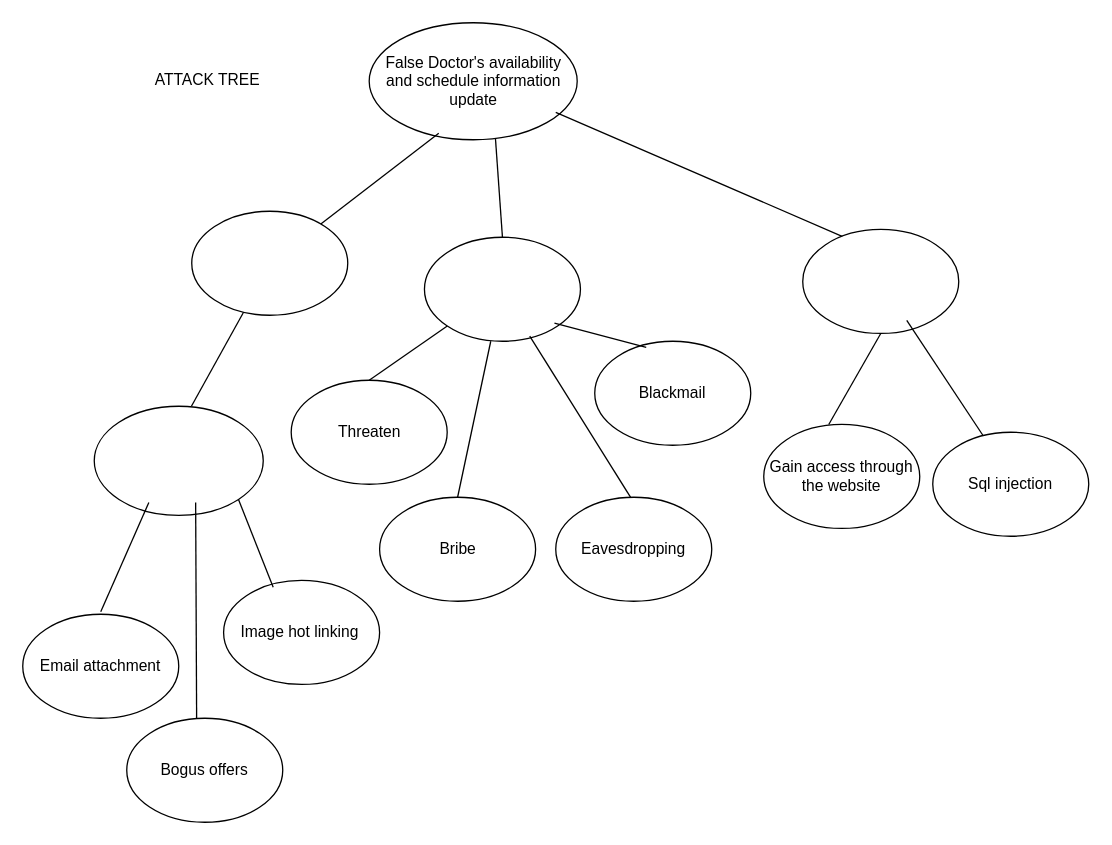
Some shapes in this 1112 by 845 pixel diagram are drawn without their labels. Each missing label, with the centre of its shape:
"Gain access from the person in-charge" goes at (x=501, y=288).
"Gain access to the data" goes at (x=269, y=262).
"Gain access to the database" goes at (x=880, y=280).
"Introduce virus/worm malware to update the data" goes at (x=178, y=460).
